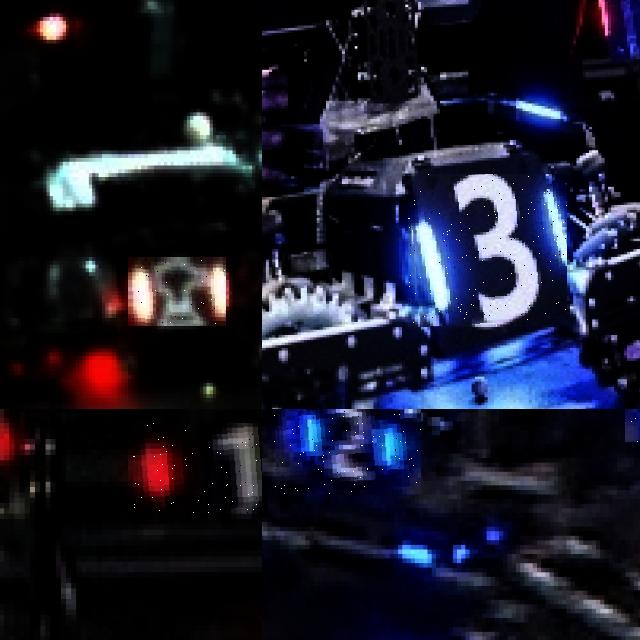B2: (273, 409, 421, 494)
B3: (408, 174, 567, 327)
R1: (133, 423, 262, 513)
Rs: (128, 257, 226, 326)
